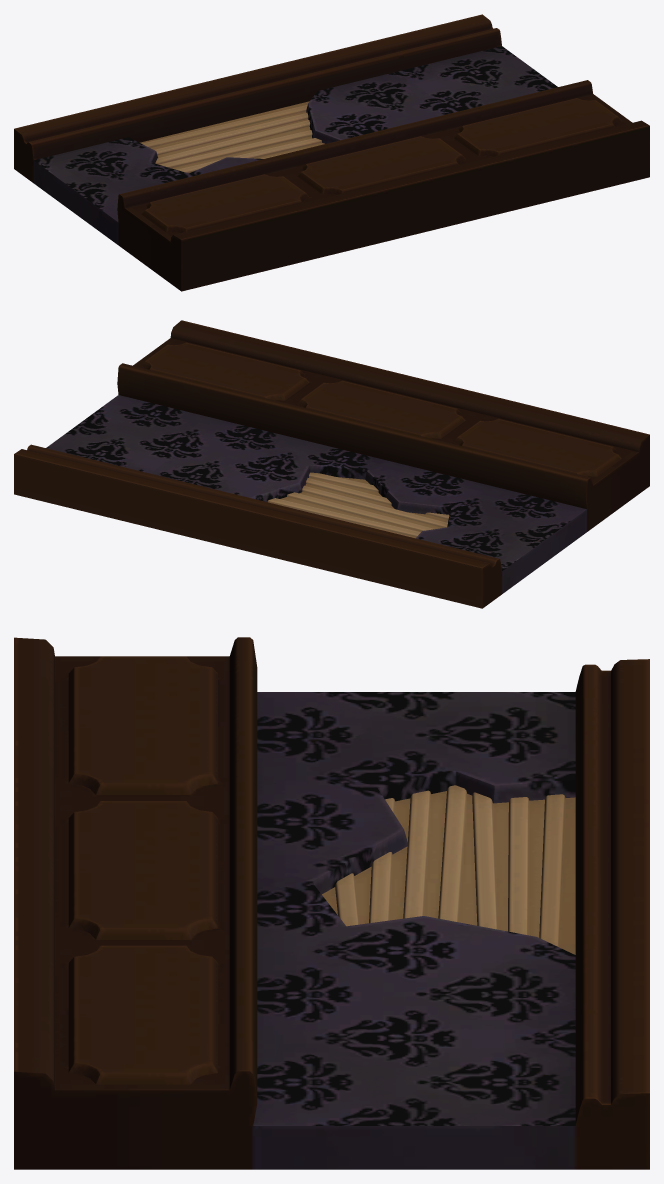
The model's file is SpookyWallSectionA.fbx.
The picture shows the model from 3 angles, top to bottom: view 1: azimuth 30°, elevation 25°; view 2: azimuth 150°, elevation 25°; view 3: azimuth 270°, elevation 25°; orthographic projection. The views are drawn at different scales.
Visible parts, largest first — view 1: SpookyWallSectionA; view 2: SpookyWallSectionA; view 3: SpookyWallSectionA.
Part boxes in pixels (x1,y1,x2,y2): SpookyWallSectionA: (14, 14, 649, 291); SpookyWallSectionA: (14, 320, 649, 608); SpookyWallSectionA: (14, 637, 649, 1169).
Size of the model in its own units: 323 by 34.11 by 200.
